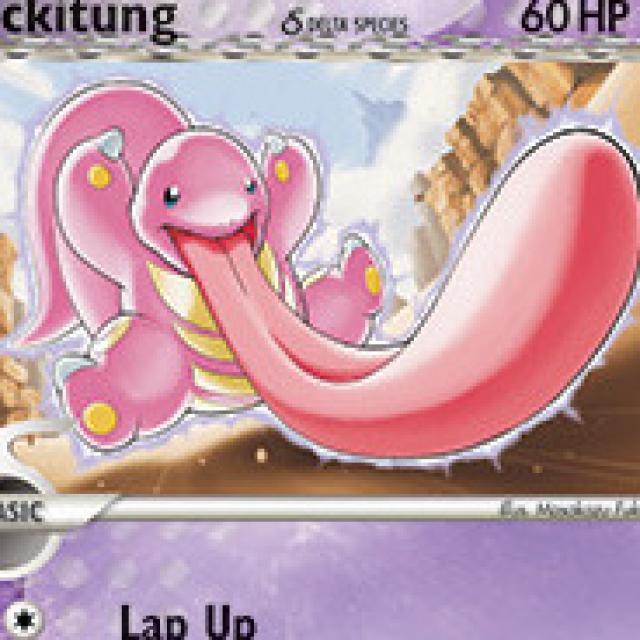Lickitung: (57, 130, 385, 454)
